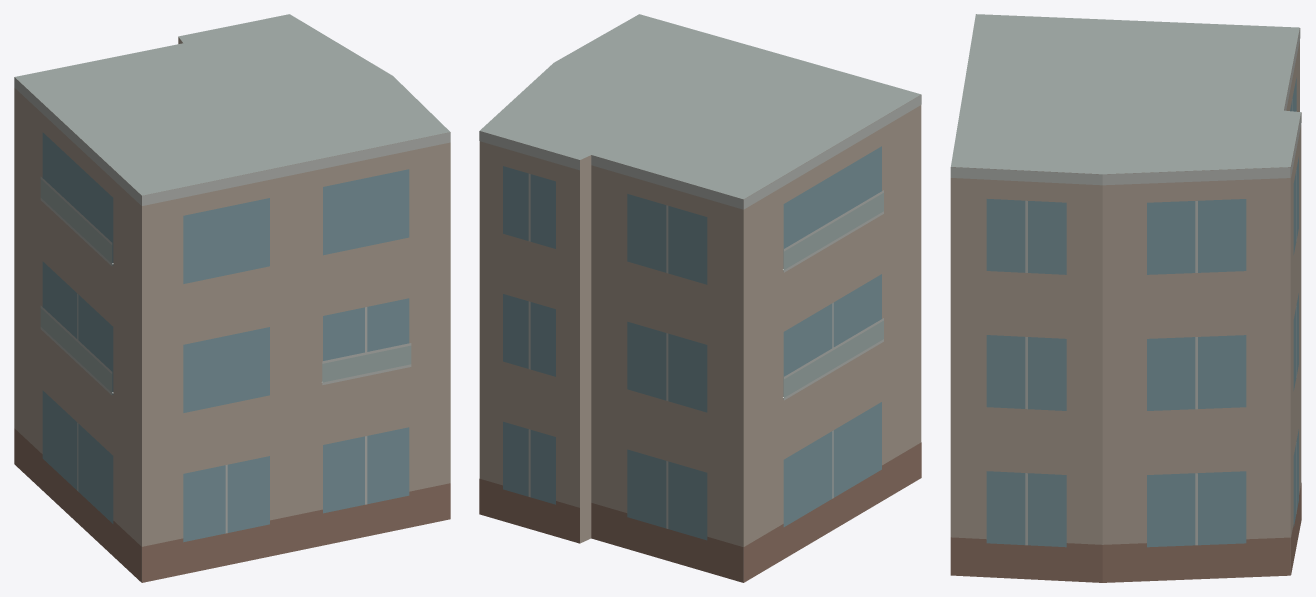
The model's file is survey-upis-32458353.glb.
The picture shows the model from 3 angles, left to right: view 1: azimuth 30°, elevation 25°; view 2: azimuth 150°, elevation 25°; view 3: azimuth 270°, elevation 25°; orthographic projection. The views are drawn at different scales.
Parts seen in each view (by area): view 1: survey-upis-32458353.tmp; view 2: survey-upis-32458353.tmp; view 3: survey-upis-32458353.tmp.
Part boxes in pixels (x1,y1,x2,y2): survey-upis-32458353.tmp: [14, 14, 450, 582]; survey-upis-32458353.tmp: [479, 14, 921, 582]; survey-upis-32458353.tmp: [950, 14, 1301, 582].
Size of the model in its own units: 7.62 by 9.05 by 7.05.
